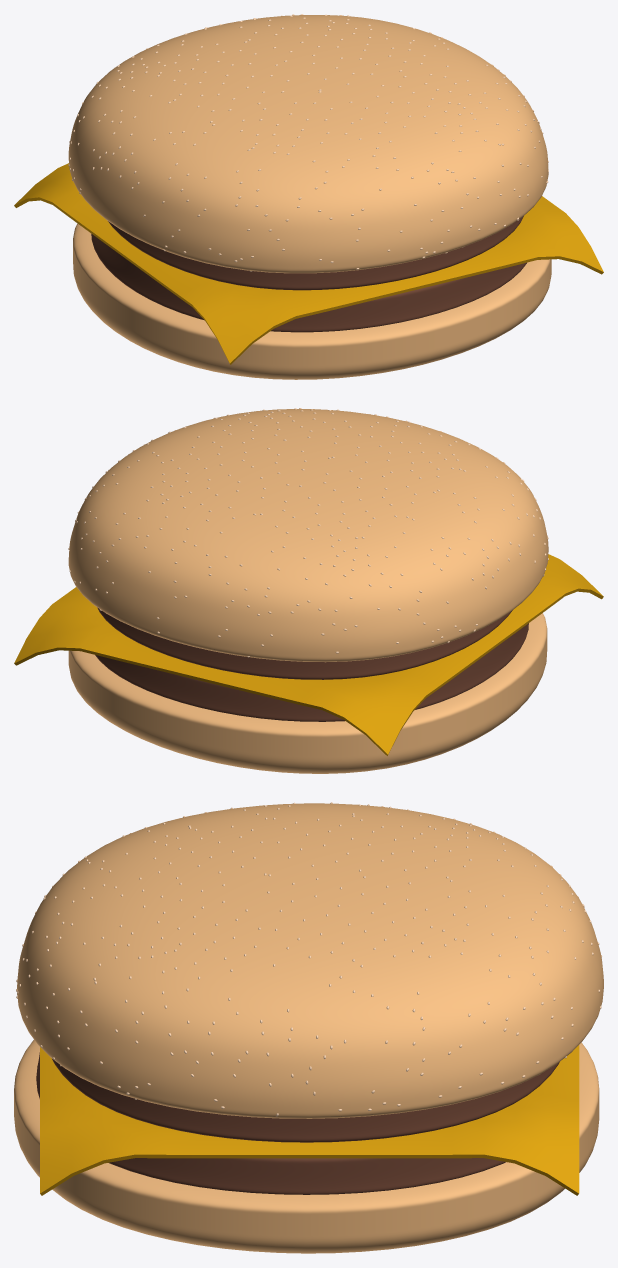
File: hamburger.glb
3 views of the same model, one above another, from view 1: azimuth 30°, elevation 25°; view 2: azimuth 150°, elevation 25°; view 3: azimuth 270°, elevation 25° (orthographic). The views are drawn at different scales.
Visible parts, largest first — view 1: Cube.002, Cube, Plane, Cube.001, Cube.003; view 2: Cube.002, Cube, Plane, Cube.001, Cube.003; view 3: Cube.002, Cube, Plane, Cube.001, Cube.003.
Part boxes in pixels (x1=…): Cube.002: x1=68, y1=15, x2=548, y2=273; Cube: x1=73, y1=223, x2=551, y2=379; Plane: x1=14, y1=163, x2=603, y2=364; Cube.001: x1=91, y1=234, x2=526, y2=332; Cube.003: x1=108, y1=216, x2=523, y2=290; Cube.002: x1=68, y1=409, x2=548, y2=662; Cube: x1=68, y1=613, x2=547, y2=773; Plane: x1=14, y1=554, x2=603, y2=755; Cube.001: x1=95, y1=623, x2=528, y2=721; Cube.003: x1=97, y1=607, x2=512, y2=679; Cube.002: x1=17, y1=803, x2=603, y2=1118; Cube: x1=14, y1=1040, x2=599, y2=1253; Plane: x1=40, y1=1045, x2=579, y2=1195; Cube.001: x1=36, y1=1052, x2=505, y2=1194; Cube.003: x1=52, y1=1059, x2=559, y2=1142.
Bounding box in the file's own units: 8.78 × 4.73 × 8.79.
